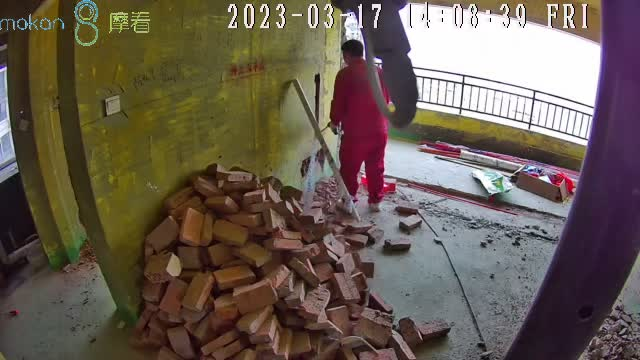people: (330, 40, 387, 213)
window: (359, 4, 598, 143)
